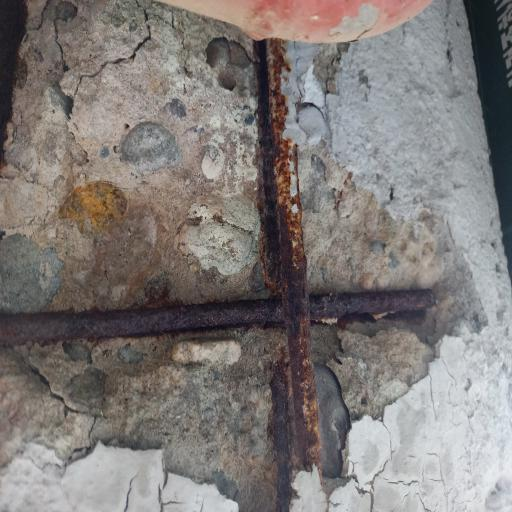exposed_rebar: (0, 39, 435, 469), (0, 299, 284, 345), (270, 356, 292, 510)
spalling: (0, 0, 485, 512)
